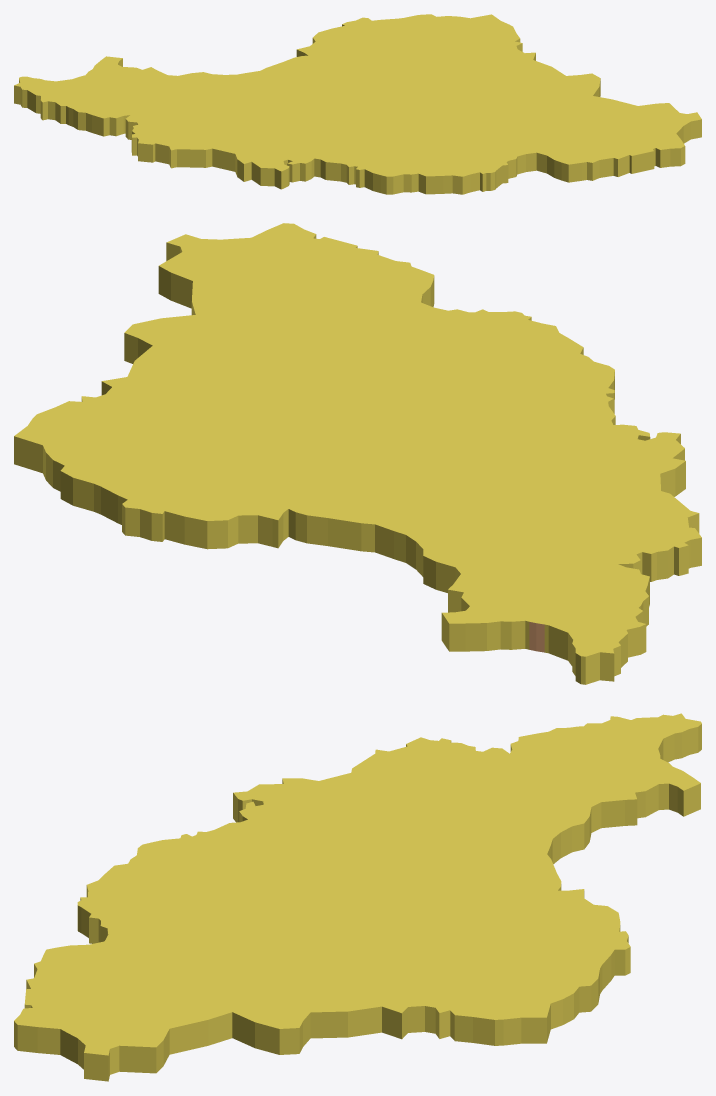
Rendered from Iran.fbx.
The picture shows the model from 3 angles, top to bottom: view 1: azimuth 30°, elevation 25°; view 2: azimuth 150°, elevation 25°; view 3: azimuth 270°, elevation 25°; orthographic projection. The views are drawn at different scales.
Visible parts, largest first — view 1: Iran; view 2: Iran; view 3: Iran.
Boxes of the visible parts, box(x1,y1,x2,y2) form: Iran: box(14, 14, 701, 194); Iran: box(14, 223, 701, 684); Iran: box(14, 713, 701, 1081).
Bounding box in the file's own units: 36.93 × 1.31 × 31.38.
